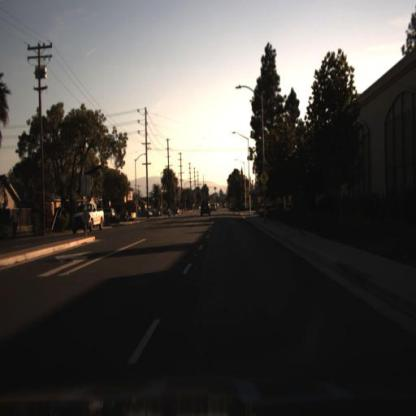car: (69, 200, 106, 238), (199, 195, 215, 224), (103, 204, 118, 228), (172, 207, 182, 221)
